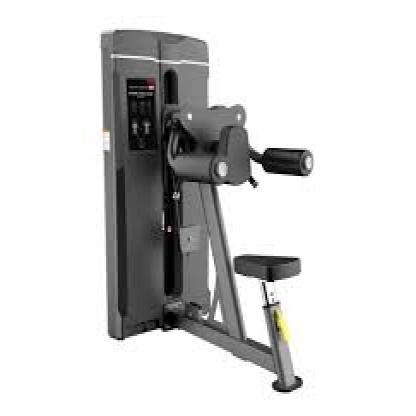lateral raises machine: (100, 29, 314, 396)
